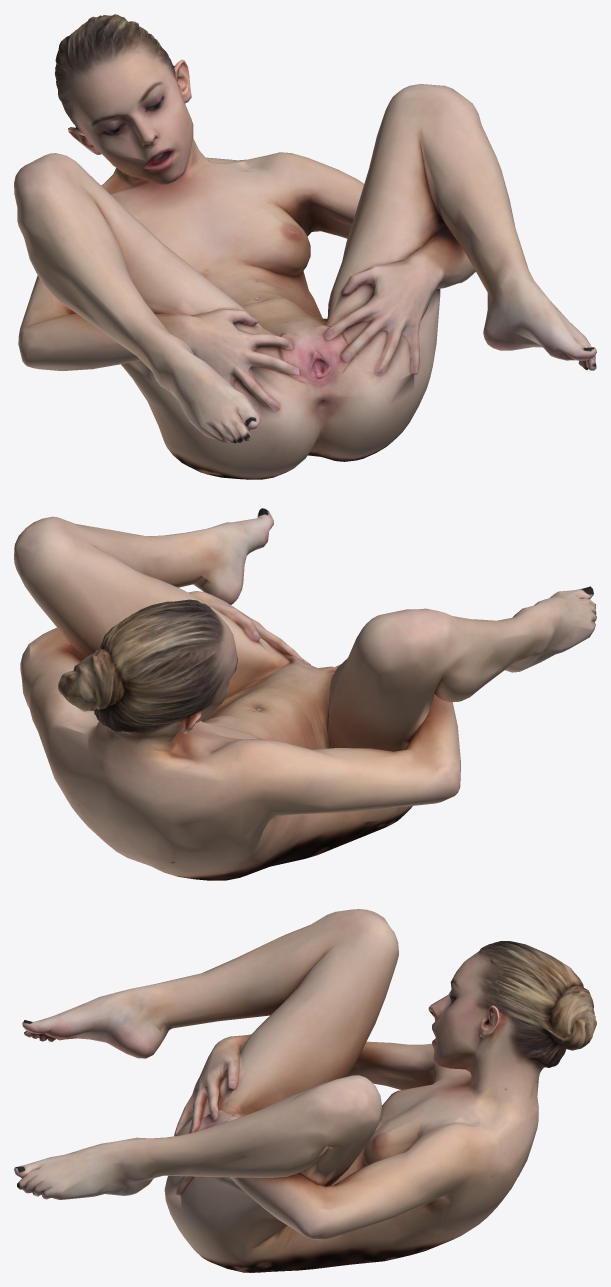
File: dome021.glb
3 renders of one model, top to bottom at view 1: azimuth 30°, elevation 25°; view 2: azimuth 150°, elevation 25°; view 3: azimuth 270°, elevation 25°, orthographic. The views are drawn at different scales.
Visible parts, largest first — view 1: 10_LOD4_0; view 2: 10_LOD4_0; view 3: 10_LOD4_0.
Part boxes in pixels (x1,y1,x2,y2): 10_LOD4_0: (14,14,596,479); 10_LOD4_0: (14,508,596,880); 10_LOD4_0: (14,909,596,1272).
Size of the model in its own units: 0.716 by 0.5141 by 0.9215.
1 material, 1 textured.
